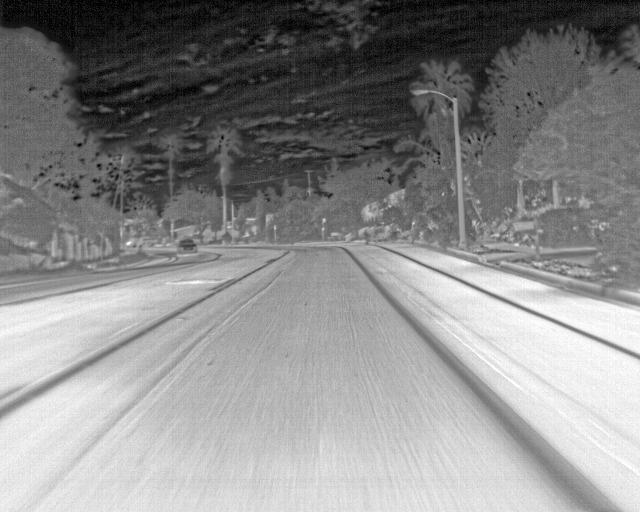car: (177, 238, 197, 255)
